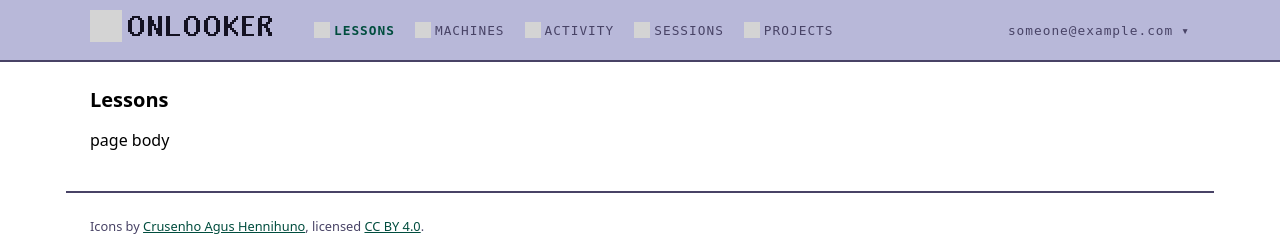
Test case: the account menu › opens to Orgs, Settings, Profile and Sign out
Click the button "someone@example.com ▾" at (1099, 30), box x1=1008 y1=22 x2=1190 y2=38
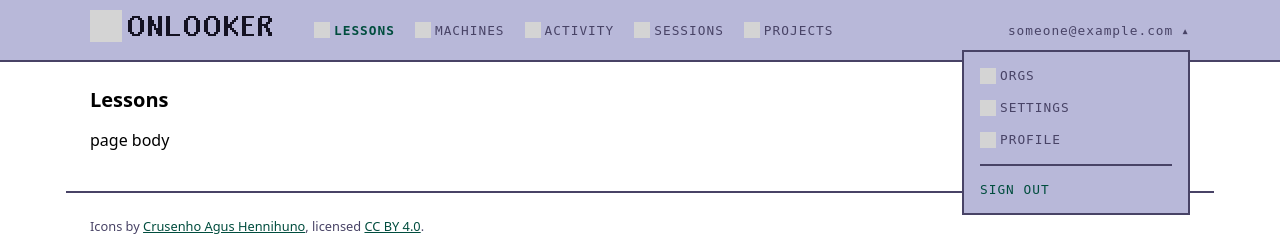
Result: the button "someone@example.com ▴" is expanded at x1=1008 y1=22 x2=1190 y2=38
Result: the element with id "app-account-menu" is shown at x1=962 y1=50 x2=1190 y2=214
Result: the button "Sign out" is shown at x1=980 y1=182 x2=1050 y2=196
